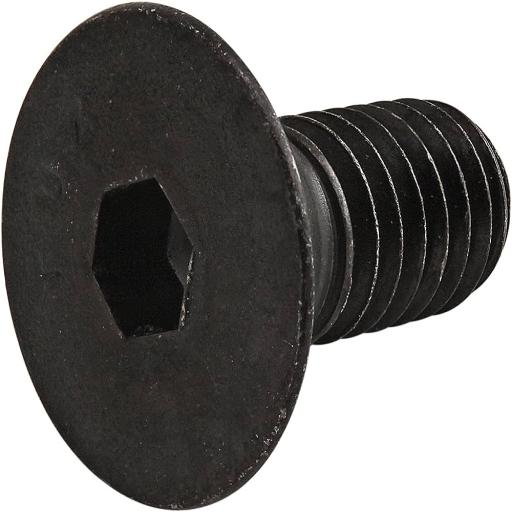Hex-Allen: (4, 4, 312, 503)
